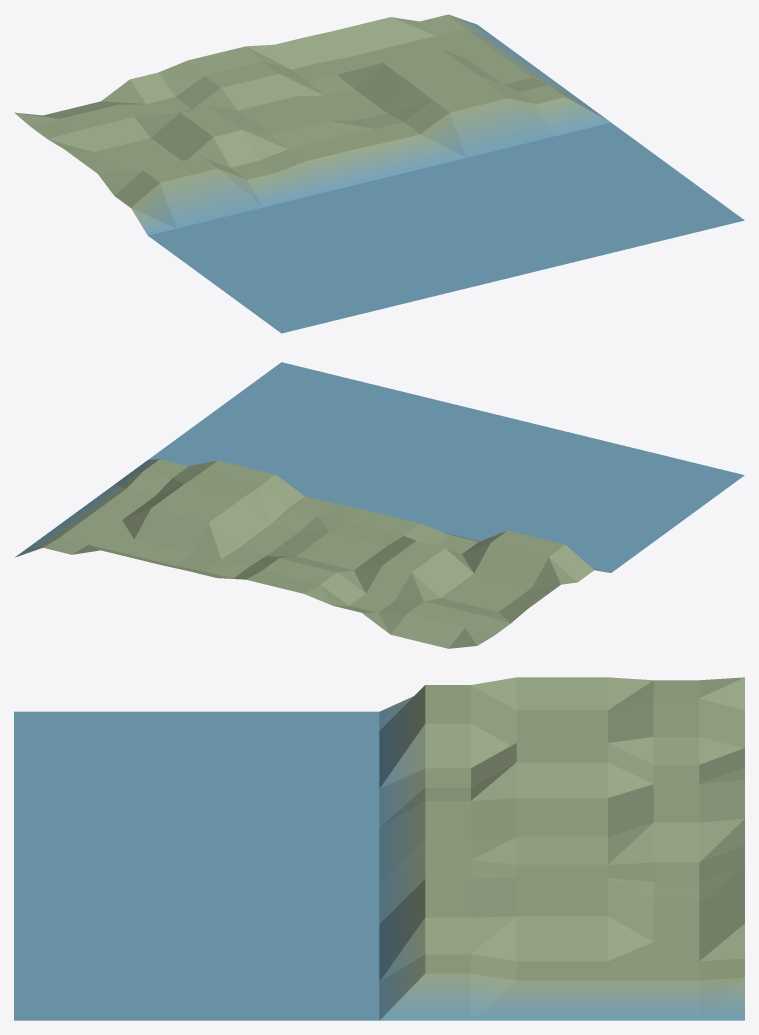
3 renders of one model, top to bottom at view 1: azimuth 30°, elevation 25°; view 2: azimuth 150°, elevation 25°; view 3: azimuth 270°, elevation 25°, orthographic. The views are drawn at different scales.
Size of the model in its own units: 32 by 2.3 by 32.
